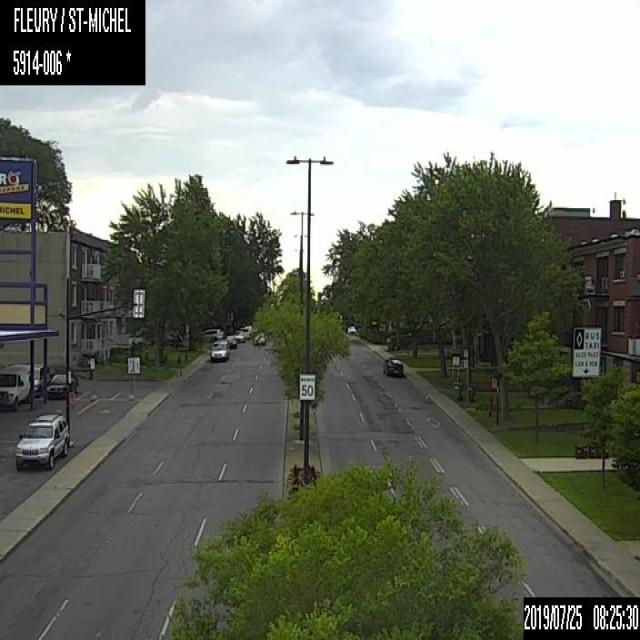vehicle: (14, 408, 67, 468), (0, 364, 29, 409), (48, 371, 77, 400), (23, 363, 49, 394), (209, 338, 229, 362), (382, 355, 404, 376), (201, 326, 224, 341), (224, 333, 237, 349), (253, 330, 264, 347), (234, 328, 245, 343), (346, 326, 356, 334)
